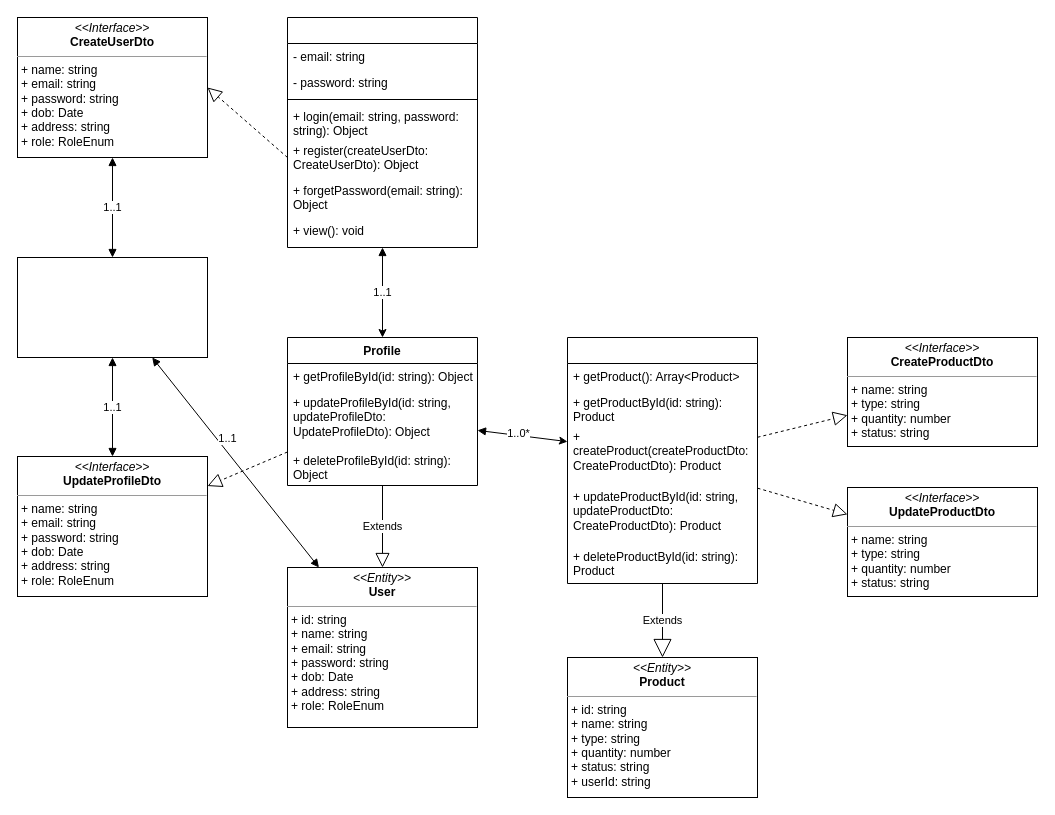
Some shapes in this 1055 by 815 pixel diagram are drawn without their labels. The box of each missing label's shape, as (x1, y1, x2, y2) in pixels:
<<Enumeration>> RoleEnum FARMER INVESTOR DISTRIBUTOR: (16, 256, 208, 358)
Auth: (286, 16, 478, 248)
ProductManagement: (566, 336, 758, 584)
